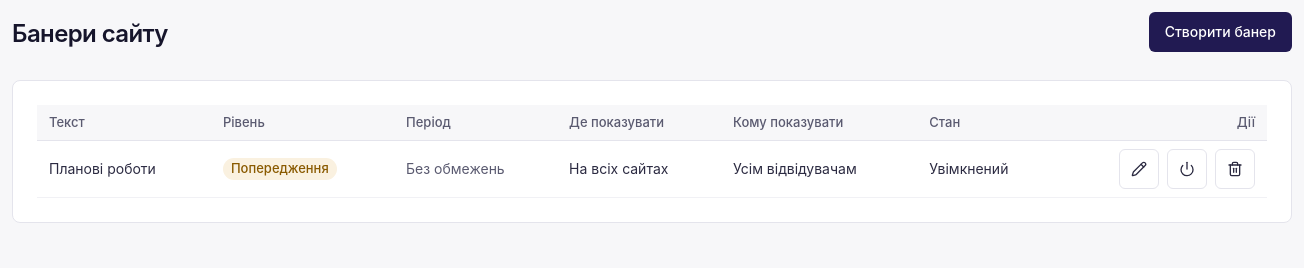
Test case: banners admin page › rolls back and shows the error when the toggle fails
The image size is (1304, 268).
Expected: the text "Планові роботи" is shown, [49,159,156,179]
Click the button named "Вимкнути": (1187, 169) [1167,149,1207,189]
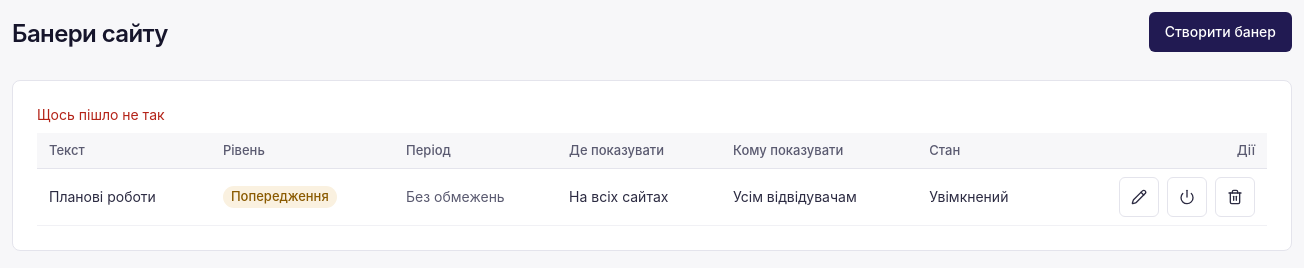
Expected: the button named "Вимкнути" is shown, [1167,177,1207,217]
Expected: the message "Щось пішло не так" is shown, [37,106,165,123]
